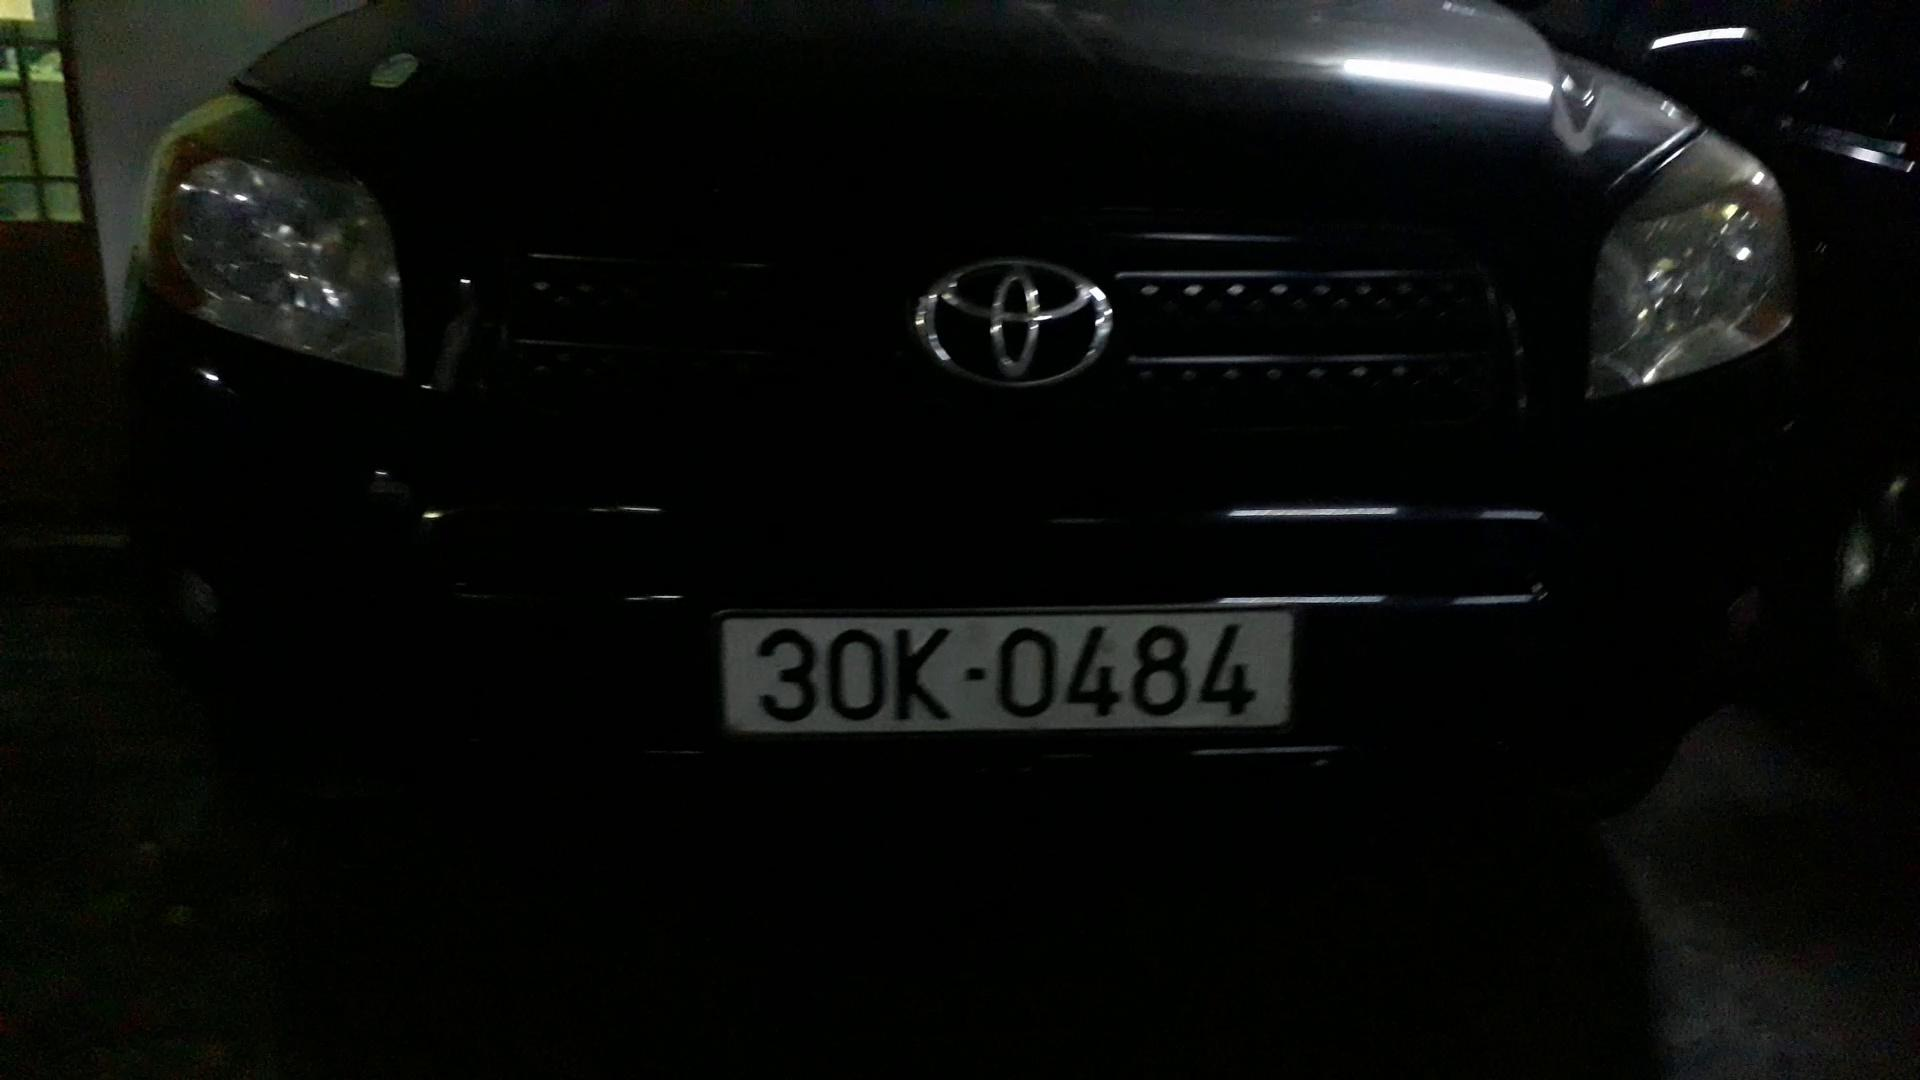numplate: (700, 587, 1333, 747)
